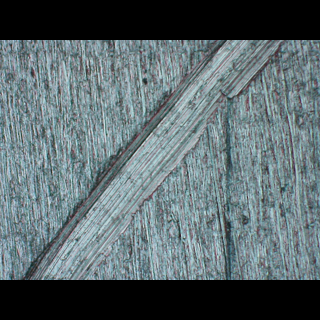d: (19, 40, 290, 279)
